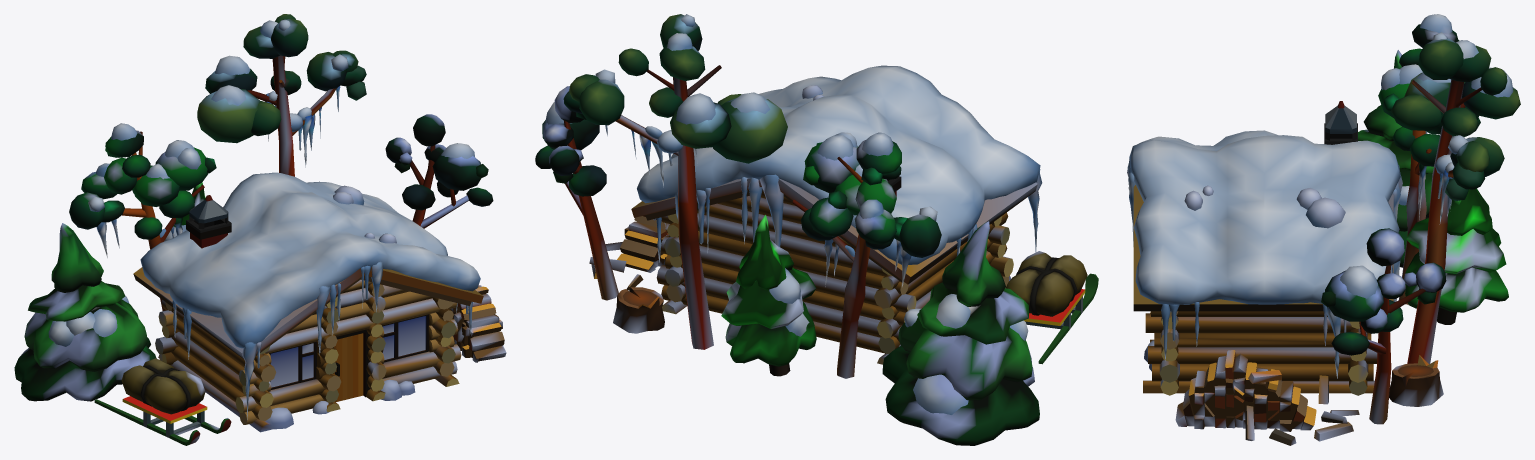
The model's file is House.fbx.
The picture shows the model from 3 angles, left to right: view 1: azimuth 30°, elevation 25°; view 2: azimuth 150°, elevation 25°; view 3: azimuth 270°, elevation 25°; orthographic projection. The views are drawn at different scales.
Parts seen in each view (by area): view 1: House; view 2: House; view 3: House.
Boxes of the visible parts, x1=… form: House: x1=14, y1=14, x2=506, y2=445; House: x1=535, y1=14, x2=1098, y2=445; House: x1=1127, y1=14, x2=1520, y2=445.
Size of the model in its own units: 12331 by 7938 by 8018.
